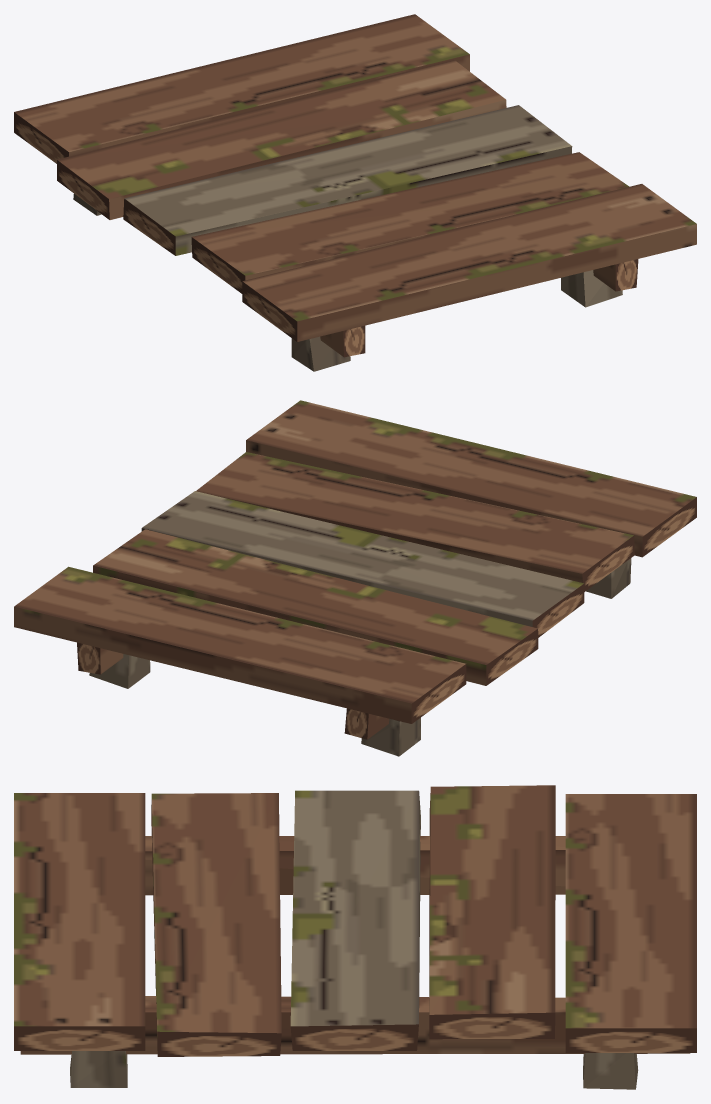
File: SM_ST10_Boardwalk.fbx
3 renders of one model, top to bottom at view 1: azimuth 30°, elevation 25°; view 2: azimuth 150°, elevation 25°; view 3: azimuth 270°, elevation 25°, orthographic. The views are drawn at different scales.
Parts seen in each view (by area): view 1: ST10_Boardwalk; view 2: ST10_Boardwalk; view 3: ST10_Boardwalk.
Part boxes in pixels (box(x1,y1,x2,y2)): ST10_Boardwalk: box(14, 14, 696, 371); ST10_Boardwalk: box(14, 400, 696, 756); ST10_Boardwalk: box(14, 785, 696, 1089).
Bounding box in the file's own units: 1.69 × 0.3186 × 2.
